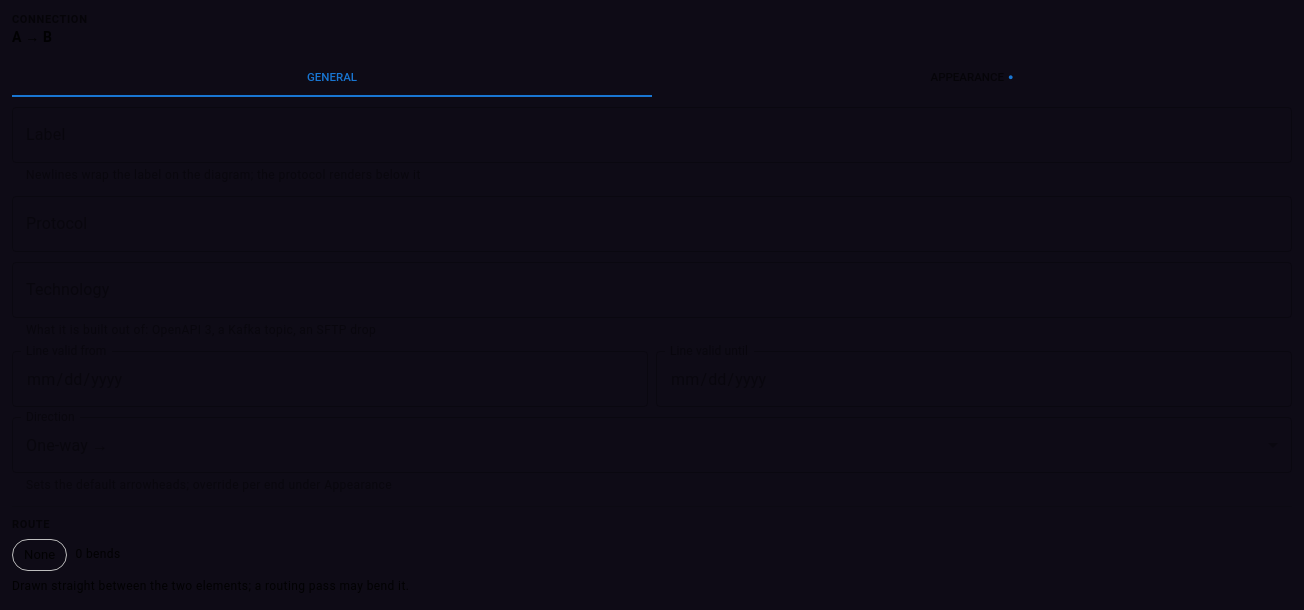
ConnectionInspector — active tab + readOnly › disables controls in every tab under readOnly
The image size is (1304, 610).
Click the tab "Appearance ●": (972, 77) 652,57 -> 1292,97
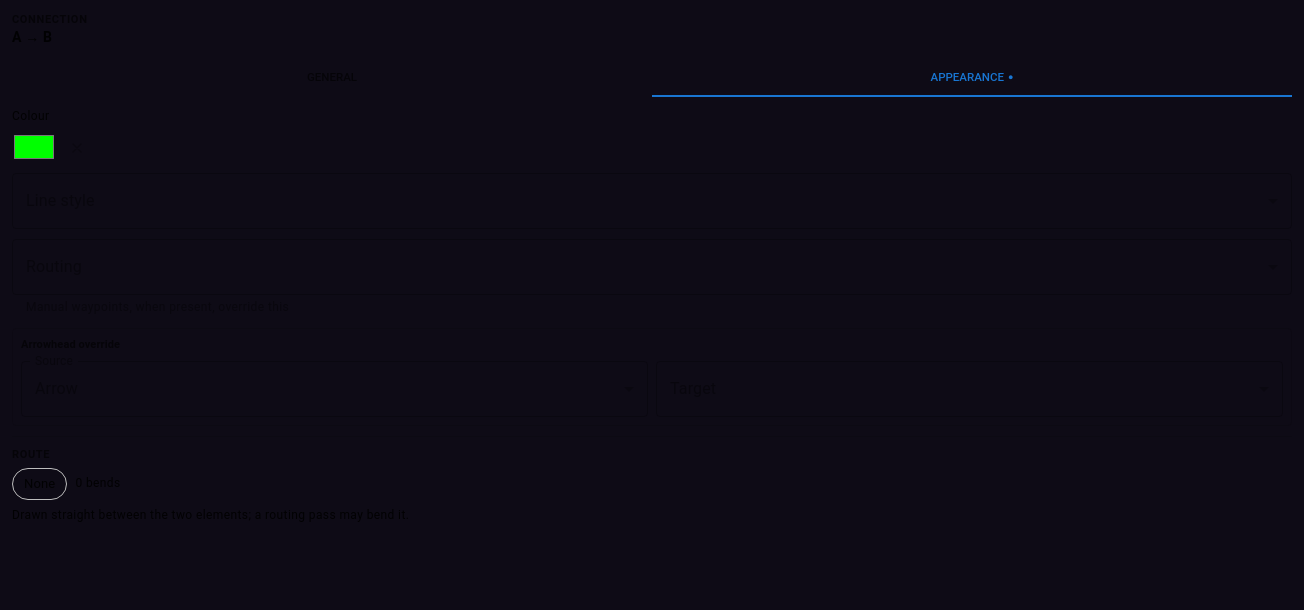
Now the colour field named "Edge colour" is disabled, box 12,131 -> 56,163
